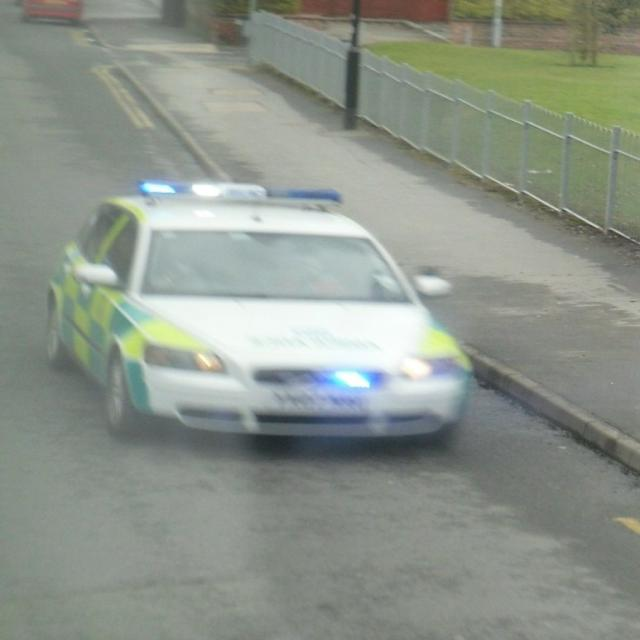car: (39, 171, 469, 445)
